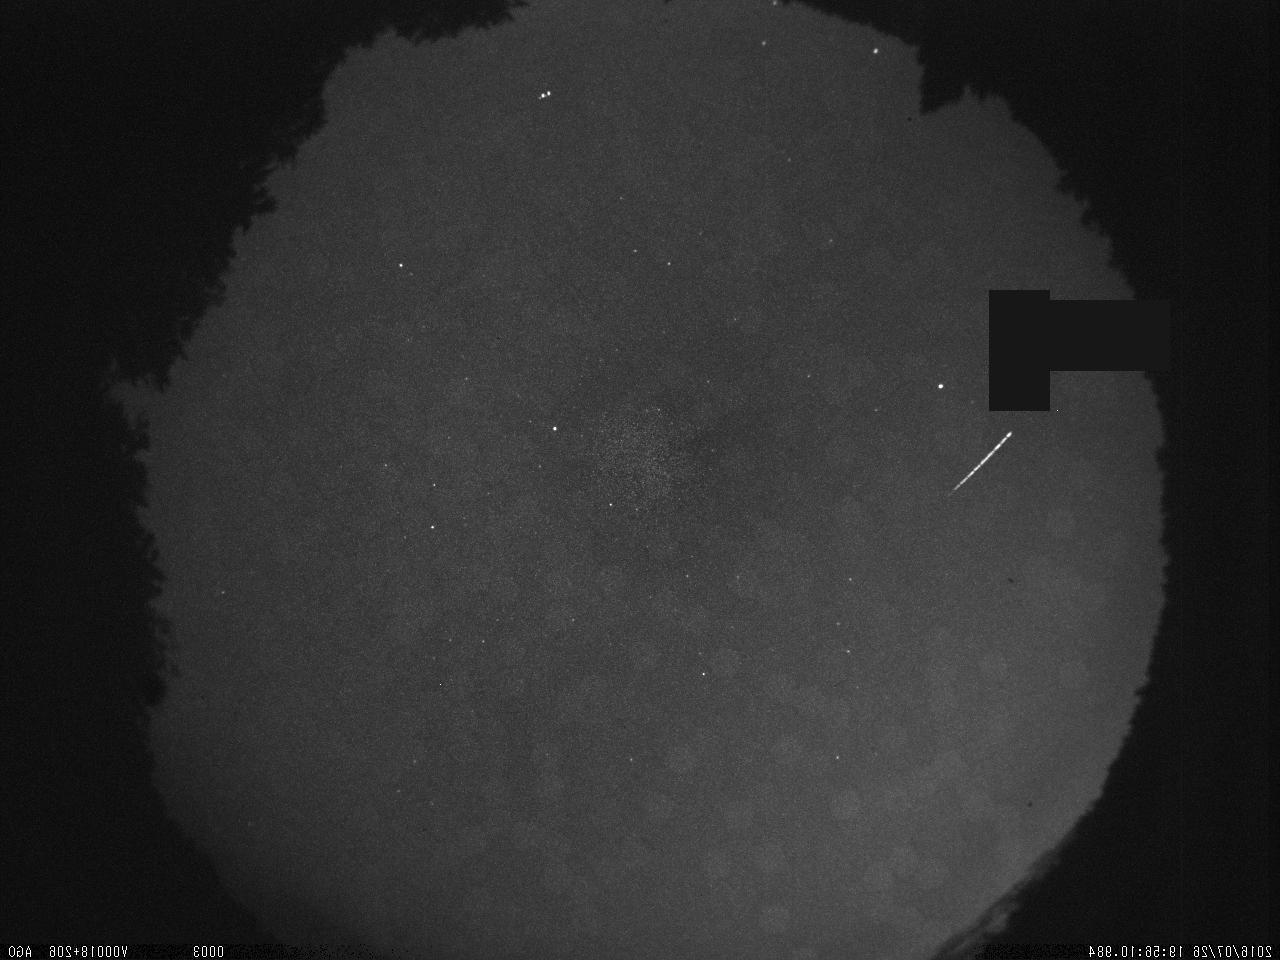meteor: (946, 427, 1018, 501)
